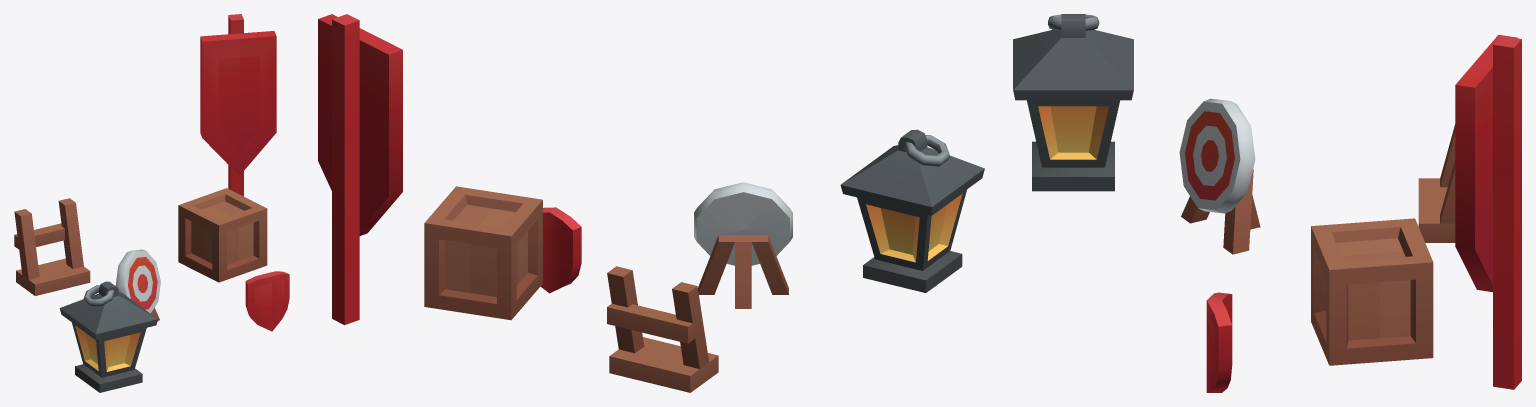
The model's file is bld_guard_post_2x2.glb.
3 renders of one model, left to right at view 1: azimuth 30°, elevation 25°; view 2: azimuth 150°, elevation 25°; view 3: azimuth 270°, elevation 25°, orthographic. The views are drawn at different scales.
Parts seen in each view (by area): view 1: banner_red_full, crate_A_big, lantern_standing, weaponrack, shield_red_full, target; view 2: banner_red_full, lantern_standing, crate_A_big, weaponrack, target, shield_red_full; view 3: banner_red_full, lantern_standing, crate_A_big, target, weaponrack, shield_red_full.
Part boxes in pixels (<box>): banner_red_full: <box>200,14,276,196</box>; crate_A_big: <box>178,188,267,282</box>; lantern_standing: <box>59,281,157,392</box>; weaponrack: <box>14,198,90,295</box>; shield_red_full: <box>245,271,289,331</box>; target: <box>115,249,160,321</box>; banner_red_full: <box>318,14,402,325</box>; lantern_standing: <box>840,129,984,292</box>; crate_A_big: <box>424,186,542,320</box>; weaponrack: <box>607,266,718,392</box>; target: <box>694,182,792,308</box>; shield_red_full: <box>540,207,581,293</box>; banner_red_full: <box>1455,34,1521,389</box>; lantern_standing: <box>1013,14,1133,191</box>; crate_A_big: <box>1311,218,1433,365</box>; target: <box>1179,98,1260,254</box>; weaponrack: <box>1418,124,1455,242</box>; shield_red_full: <box>1206,292,1232,392</box>.
Bounding box in the file's own units: 1.95 × 1.39 × 1.62.
Materials: 6 (6 with a texture image).
